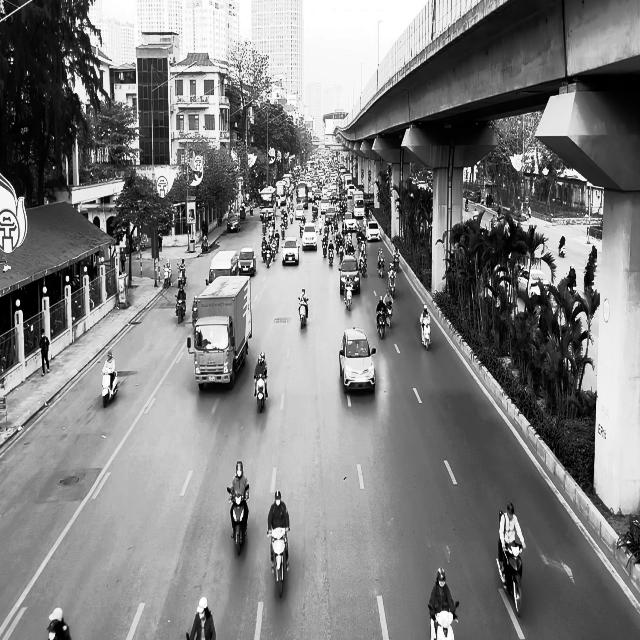car: (339, 327, 376, 391), (207, 250, 239, 286), (338, 255, 361, 294), (237, 247, 256, 276), (282, 236, 300, 265), (302, 222, 317, 250), (365, 221, 380, 241), (227, 213, 240, 232)
motorbike: (496, 540, 524, 618), (267, 528, 290, 598), (226, 485, 248, 555), (428, 601, 459, 639), (102, 368, 118, 407), (254, 373, 267, 412), (174, 294, 186, 323), (420, 319, 431, 350), (298, 297, 308, 329), (376, 309, 386, 339), (343, 283, 352, 311), (384, 301, 393, 328)
truck: (187, 274, 252, 390)
